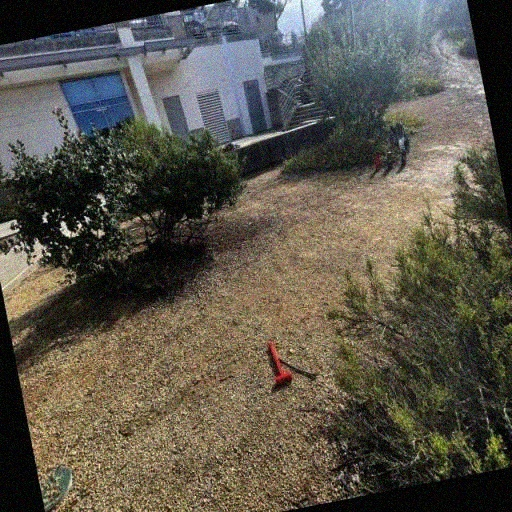bottle: (384, 148, 396, 170), (372, 150, 384, 171), (398, 146, 409, 166), (404, 136, 414, 154), (398, 136, 406, 150)
mallet: (266, 339, 294, 388)
